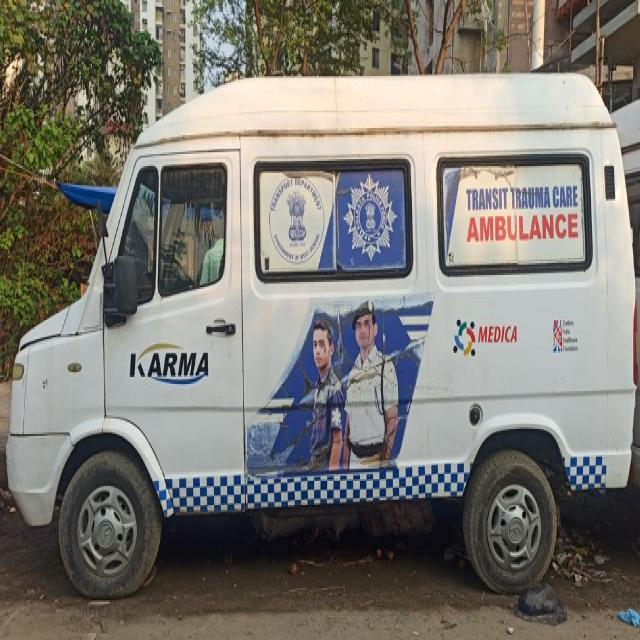van: (4, 67, 636, 597)
